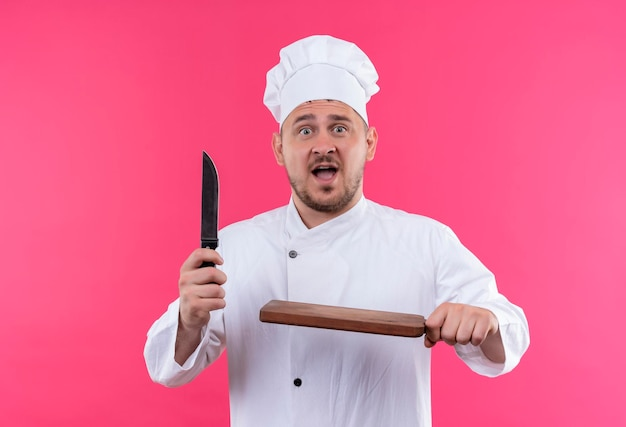knife: (198, 150, 220, 251)
